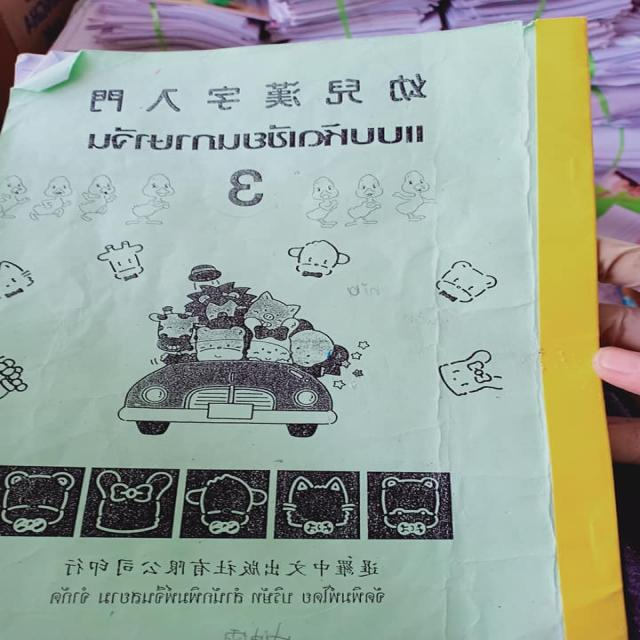paper: (0, 14, 617, 640)
